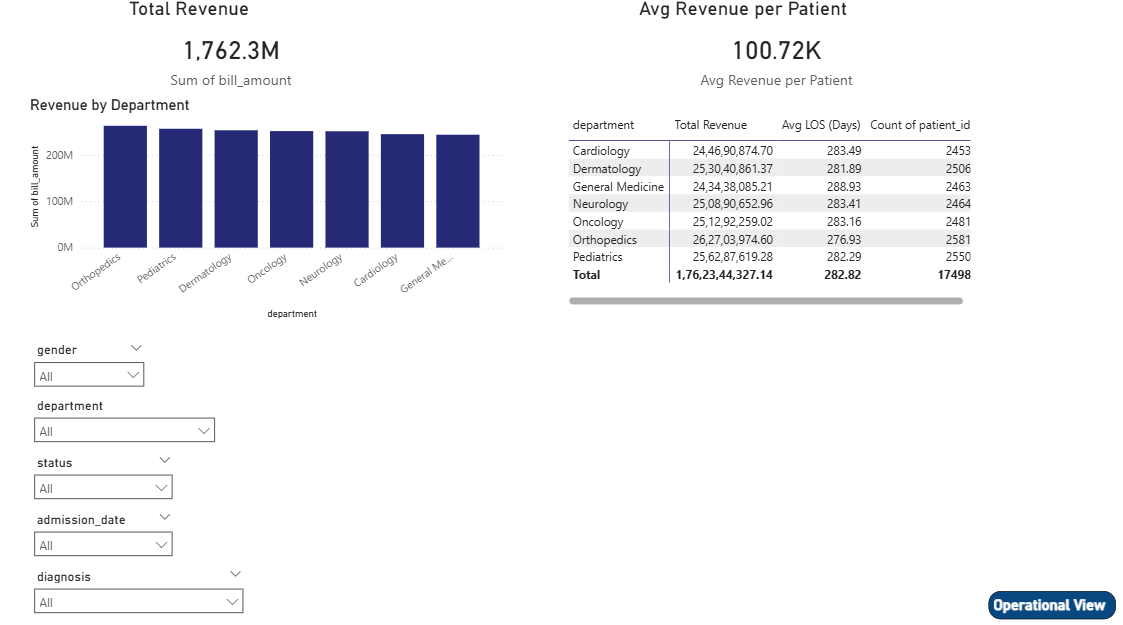

The page's visual inventory and layout, read from the dashboard file:
{"tool":"powerbi","page":{"name":"Page 2","canvas":[1280,720],"ordinal":1},"visuals":[{"type":"columnChart","title":"Revenue by Department","fields":{"Category":["healthcare_data.department"],"Y":["Sum(healthcare_data.bill_amount)"]},"box":[32,112,544,256],"z":0},{"type":"pivotTable","fields":{"Rows":["healthcare_data.department"],"Values":["Sum(healthcare_data.bill_amount)","Avg(healthcare_data.Length_of_Stay)","CountNonNull(healthcare_data.patient_id)"]},"box":[640,128,464,224],"z":1000},{"type":"slicer","fields":{"Values":["healthcare_data.gender"]},"box":[32,384,144,64],"z":2000},{"type":"slicer","fields":{"Values":["healthcare_data.department"]},"box":[32,448,224,64],"z":3000},{"type":"slicer","fields":{"Values":["healthcare_data.diagnosis"]},"box":[32,640,256,64],"z":4000},{"type":"slicer","fields":{"Values":["healthcare_data.admission_date"]},"box":[32,576,176,64],"z":5000},{"type":"slicer","fields":{"Values":["healthcare_data.status"]},"box":[32,512,176,64],"z":6000},{"type":"card","title":"Total Revenue","fields":{"Values":["Sum(healthcare_data.bill_amount)"]},"box":[144,0,240,112],"z":7000},{"type":"card","title":"Avg Revenue per Patient","fields":{"Values":["healthcare_data.Avg Revenue per Patient"]},"box":[720,0,320,112],"z":8000},{"type":"actionButton","title":"Operational View","box":[1120,672,144,32],"z":10000}]}

Visuals, with their boxes in screenshot pixels (x1, y1, x2, y2), scaled from the page's 1280x720 canvas onto the 1123x625 screenshot:
"Revenue by Department" columnChart: [left=28, top=97, right=505, bottom=319]
pivotTable - healthcare_data.department x Sum(healthcare_data.bill_amount): [left=562, top=111, right=969, bottom=306]
slicer - healthcare_data.gender: [left=28, top=333, right=154, bottom=389]
slicer - healthcare_data.department: [left=28, top=389, right=225, bottom=444]
slicer - healthcare_data.diagnosis: [left=28, top=556, right=253, bottom=611]
slicer - healthcare_data.admission_date: [left=28, top=500, right=182, bottom=556]
slicer - healthcare_data.status: [left=28, top=444, right=182, bottom=500]
"Total Revenue" card: [left=126, top=0, right=337, bottom=97]
"Avg Revenue per Patient" card: [left=632, top=0, right=912, bottom=97]
"Operational View" actionButton: [left=983, top=583, right=1109, bottom=611]
